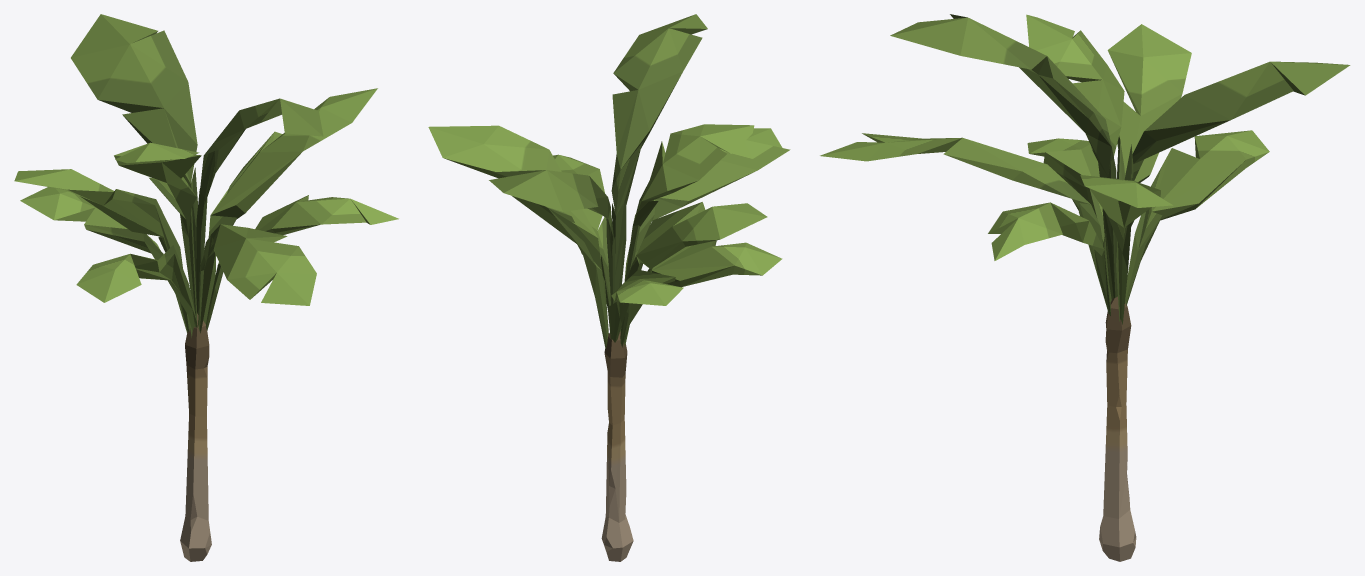
The model's file is SM_Env_Tree_Small_03.fbx.
The picture shows the model from 3 angles, left to right: view 1: azimuth 30°, elevation 25°; view 2: azimuth 150°, elevation 25°; view 3: azimuth 270°, elevation 25°; orthographic projection. The views are drawn at different scales.
Visible parts, largest first — view 1: SM_Env_Tree_Small_03; view 2: SM_Env_Tree_Small_03; view 3: SM_Env_Tree_Small_03.
Part boxes in pixels (x1=…): SM_Env_Tree_Small_03: x1=14, y1=14, x2=398, y2=561; SM_Env_Tree_Small_03: x1=428, y1=14, x2=790, y2=561; SM_Env_Tree_Small_03: x1=820, y1=14, x2=1350, y2=561.
Bounding box in the file's own units: 387 × 518 × 456.
